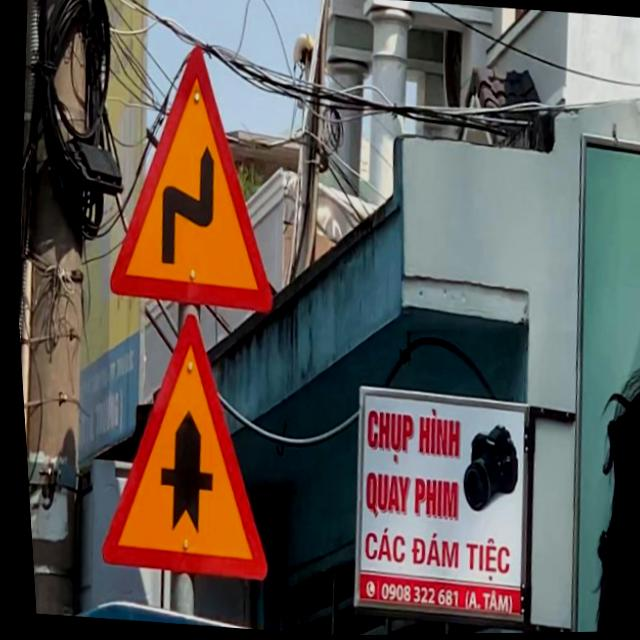Giao nhau voi duong khong uu tien: (73, 298, 295, 592)
Nhieu cho ngoat lien tiep ben phai: (86, 22, 308, 330)
